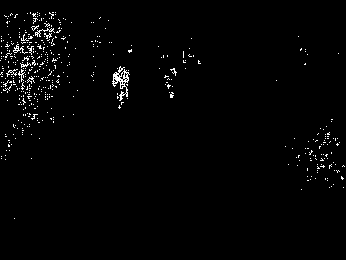person: (112, 66, 131, 111), (160, 55, 178, 99)
